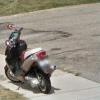Motorcycle: (1, 20, 60, 97)
